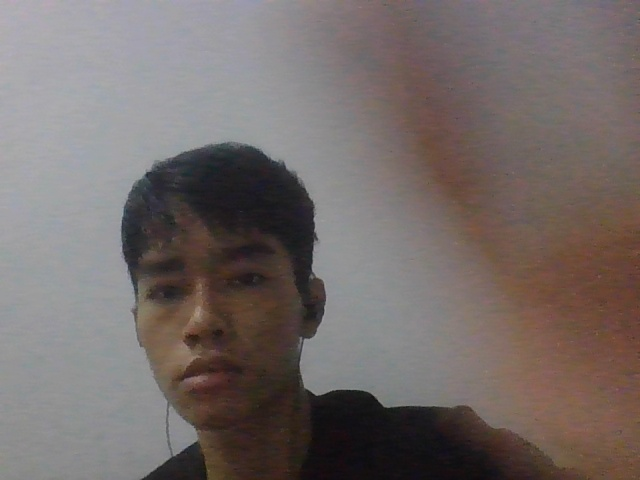real: (112, 131, 334, 445)
